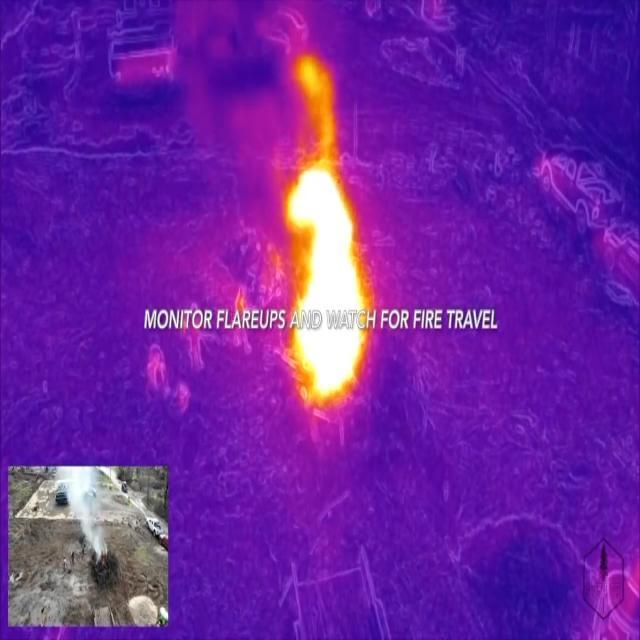fire: (286, 152, 374, 411)
